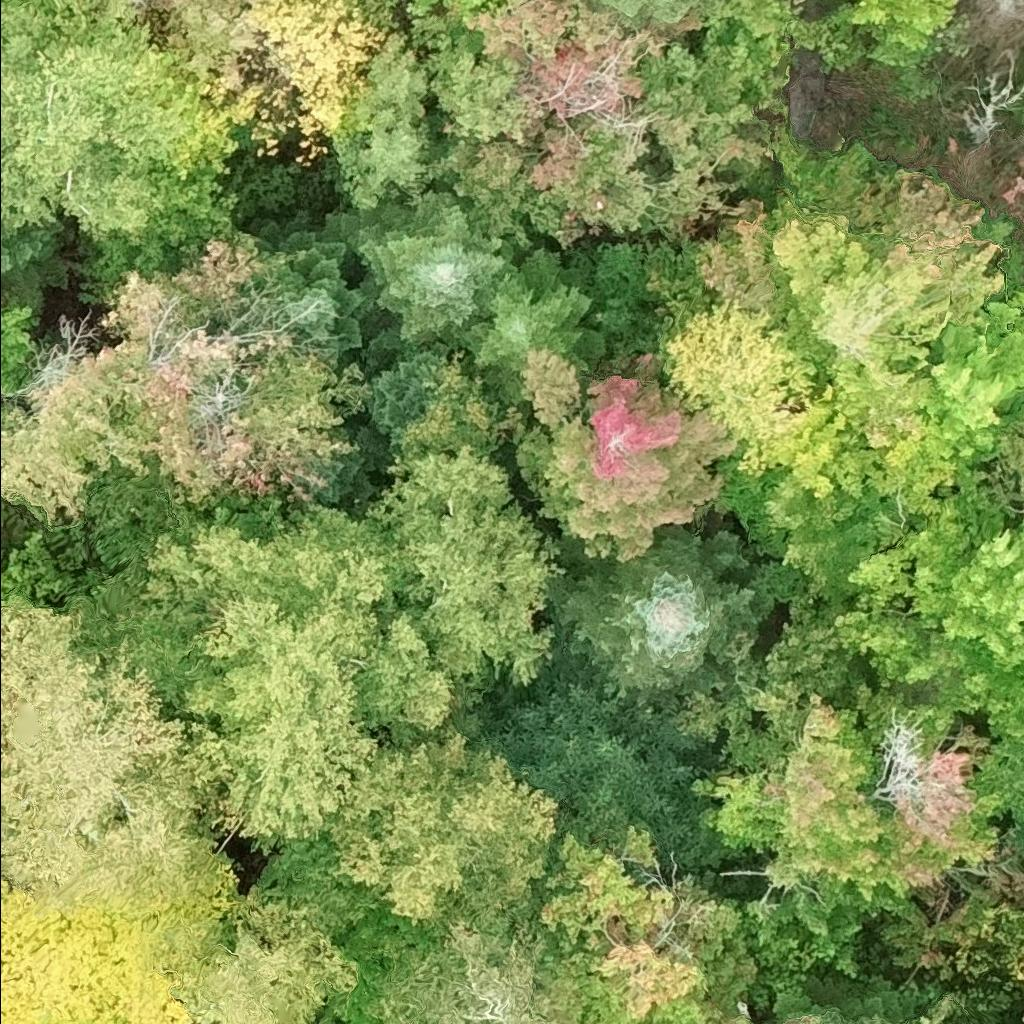crown: (81, 490, 482, 853), (695, 123, 1004, 385), (92, 232, 372, 517), (0, 0, 274, 275), (0, 588, 222, 896), (708, 349, 961, 605), (320, 716, 564, 933), (473, 670, 735, 872), (362, 442, 568, 687), (688, 691, 911, 903), (516, 349, 738, 561), (165, 841, 419, 1023), (539, 520, 767, 719), (539, 823, 763, 1023), (833, 468, 1007, 687), (671, 600, 879, 774), (852, 677, 1005, 889), (331, 898, 587, 1023), (328, 189, 517, 346), (227, 0, 406, 165), (0, 341, 157, 527), (0, 875, 192, 1023), (655, 290, 834, 442), (47, 819, 246, 955), (904, 520, 1023, 745), (450, 244, 611, 406), (255, 210, 392, 365), (697, 0, 866, 118), (929, 288, 1023, 475), (769, 878, 925, 979), (363, 318, 459, 449), (307, 408, 400, 517), (836, 0, 970, 74), (166, 0, 243, 105), (958, 49, 1023, 151), (0, 211, 69, 305), (805, 974, 920, 1023), (0, 290, 42, 414), (594, 0, 713, 26), (857, 992, 956, 1023), (965, 0, 1023, 36), (1002, 416, 1023, 502), (409, 0, 488, 15), (465, 0, 506, 17), (24, 1017, 62, 1023)
